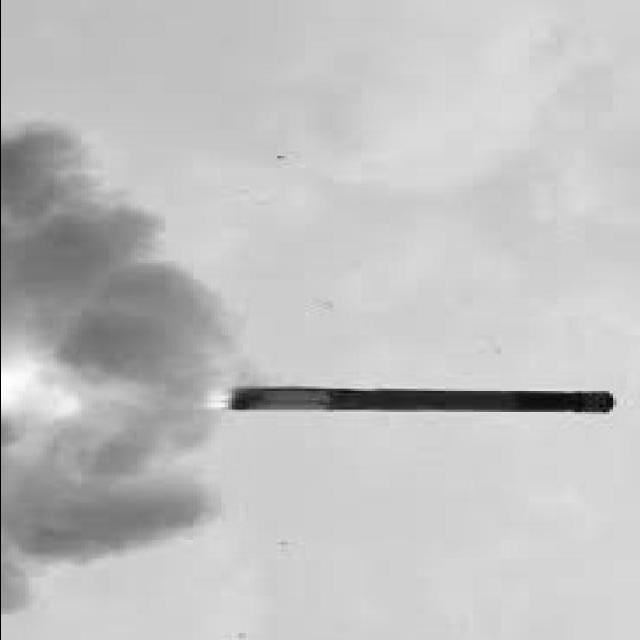missile: (224, 384, 622, 415)
